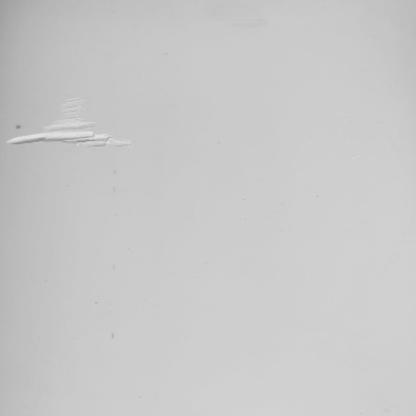sunshang: (9, 92, 128, 160)
